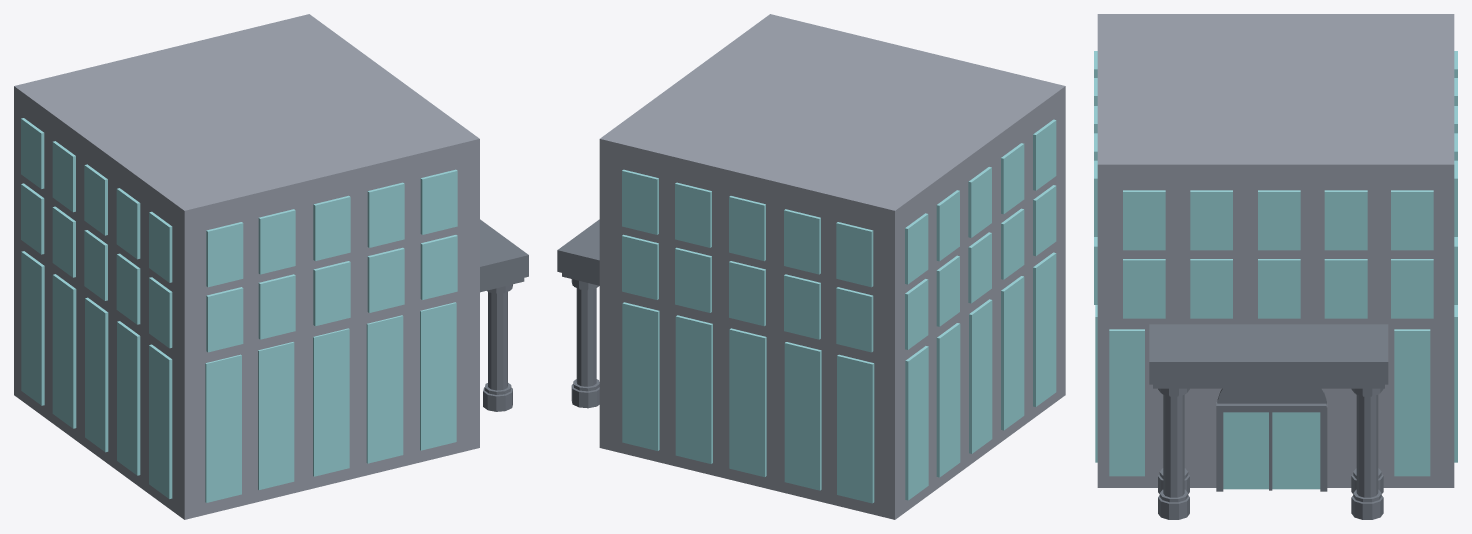
Rendered from skyscraperbase.glb.
The picture shows the model from 3 angles, left to right: view 1: azimuth 30°, elevation 25°; view 2: azimuth 150°, elevation 25°; view 3: azimuth 270°, elevation 25°; orthographic projection. The views are drawn at different scales.
Visible parts, largest first — view 1: Cube, Cube.051, Cube.050, Cube.052, Cube.054, Cube.053, Cylinder.003, Cube.056, Cube.055, Cube.057, Cube.059, Cube.058 (+20 smaller); view 2: Cube, Cube.014, Cube.026, Cube.027, Cube.028, Cube.029, Cylinder.003, Cube.056, Cube.055, Cube.057, Cube.058, Cube.059 (+20 smaller); view 3: Cube, Cylinder.003, Cube.013, Cube.005, Cube.012, Cube.016, Cube.003, Cube.010, Cube.004, Cube.001, Cube.002, Cube.006 (+7 smaller).
Boxes of the visible parts, x1,y1,x2,y2 form: Cube: (14, 14, 479, 519); Cube.051: (366, 315, 403, 463); Cube.050: (420, 302, 456, 450); Cube.052: (313, 328, 349, 476); Cube.054: (205, 354, 241, 502); Cube.053: (258, 342, 294, 489); Cylinder.003: (480, 219, 528, 411); Cube.056: (52, 274, 76, 428); Cube.055: (21, 251, 44, 405); Cube.057: (85, 297, 108, 452); Cube.059: (149, 344, 172, 498); Cube.058: (117, 321, 140, 475); Cube: (599, 14, 1065, 519); Cube.014: (622, 302, 659, 450); Cube.026: (675, 315, 712, 463); Cube.027: (729, 328, 766, 477); Cube.028: (784, 342, 821, 490); Cube.029: (837, 354, 874, 503); Cylinder.003: (557, 219, 599, 408); Cube.056: (936, 323, 960, 477); Cube.055: (905, 346, 928, 500); Cube.057: (969, 299, 992, 453); Cube.058: (1001, 276, 1024, 430); Cube.059: (1033, 252, 1056, 406); Cube: (1097, 14, 1454, 487); Cylinder.003: (1149, 324, 1388, 519); Cube.013: (1223, 412, 1320, 489); Cube.005: (1394, 329, 1430, 476); Cube.012: (1109, 329, 1144, 476); Cube.016: (1216, 402, 1327, 491); Cube.003: (1324, 190, 1367, 250); Cube.010: (1324, 259, 1367, 318); Cube.004: (1123, 190, 1165, 250); Cube.001: (1190, 190, 1232, 250); Cube.002: (1258, 190, 1300, 250); Cube.006: (1391, 190, 1433, 250).
Size of the model in its own units: 2.52 by 2 by 2.04.
